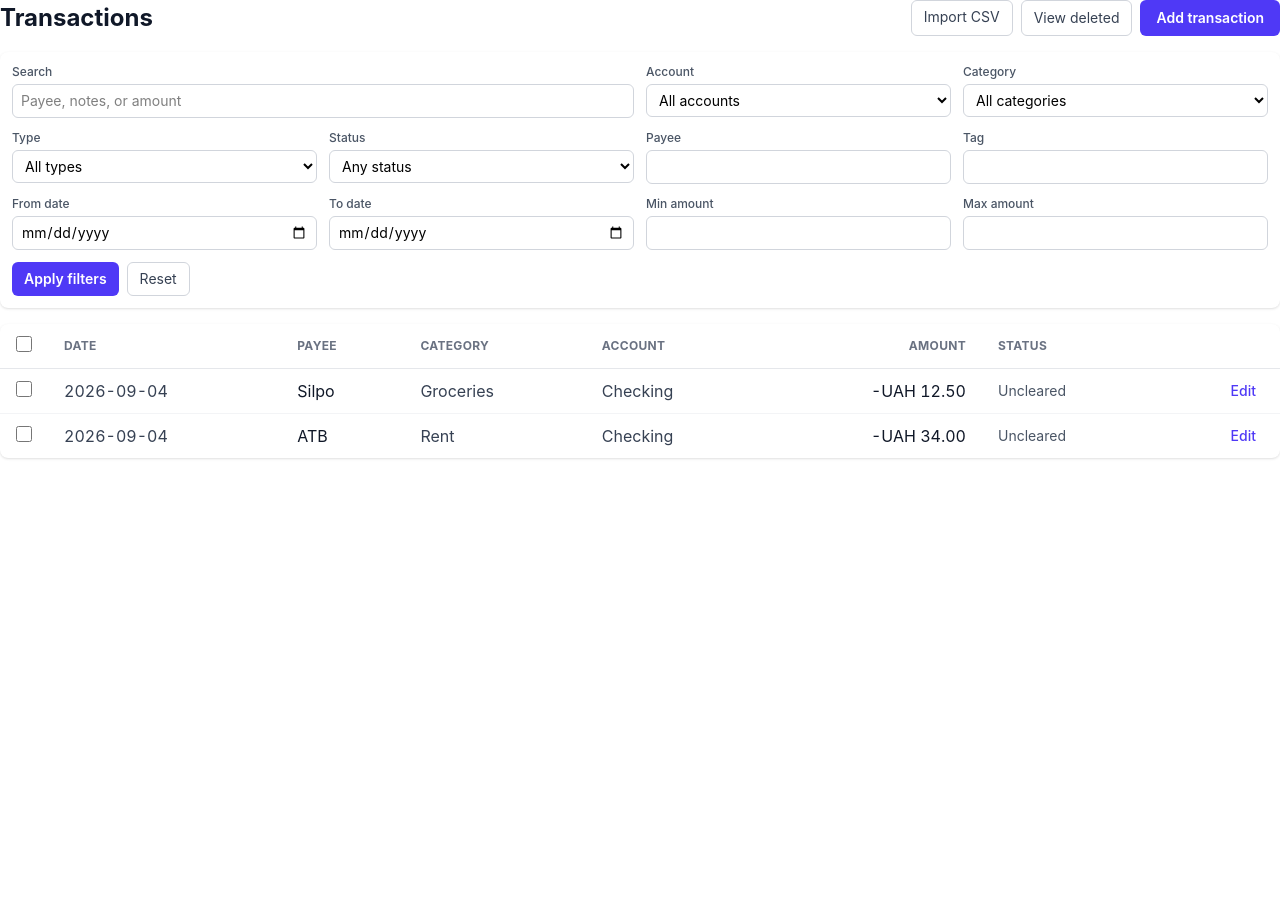
Test: TransactionsPage › quick-adds an expense with today as the default date
Click the button "Add transaction": (1210, 18) left=1140, top=0, right=1279, bottom=36
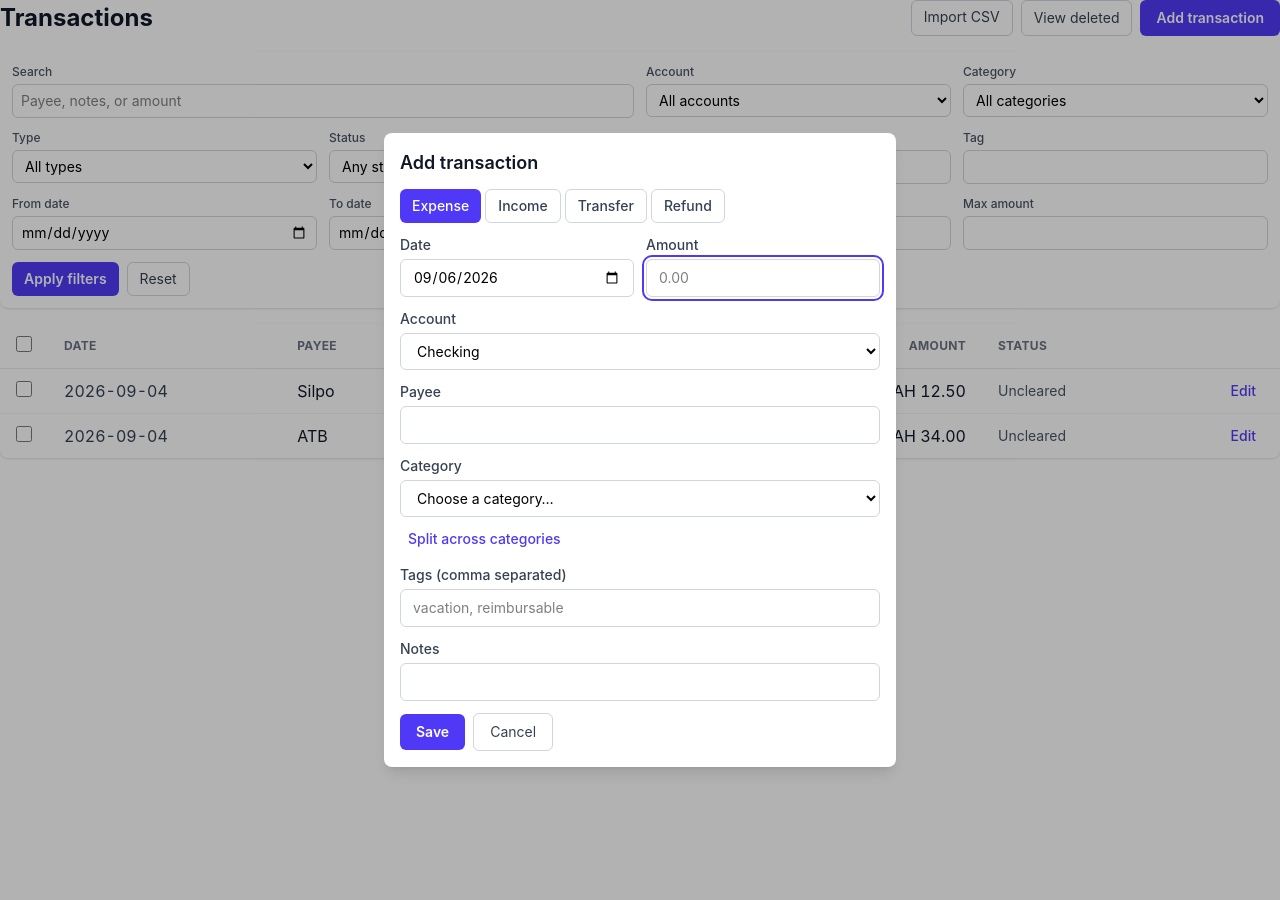
In the field labelled "Amount": (763, 278) left=646, top=259, right=880, bottom=297, type "12.50"
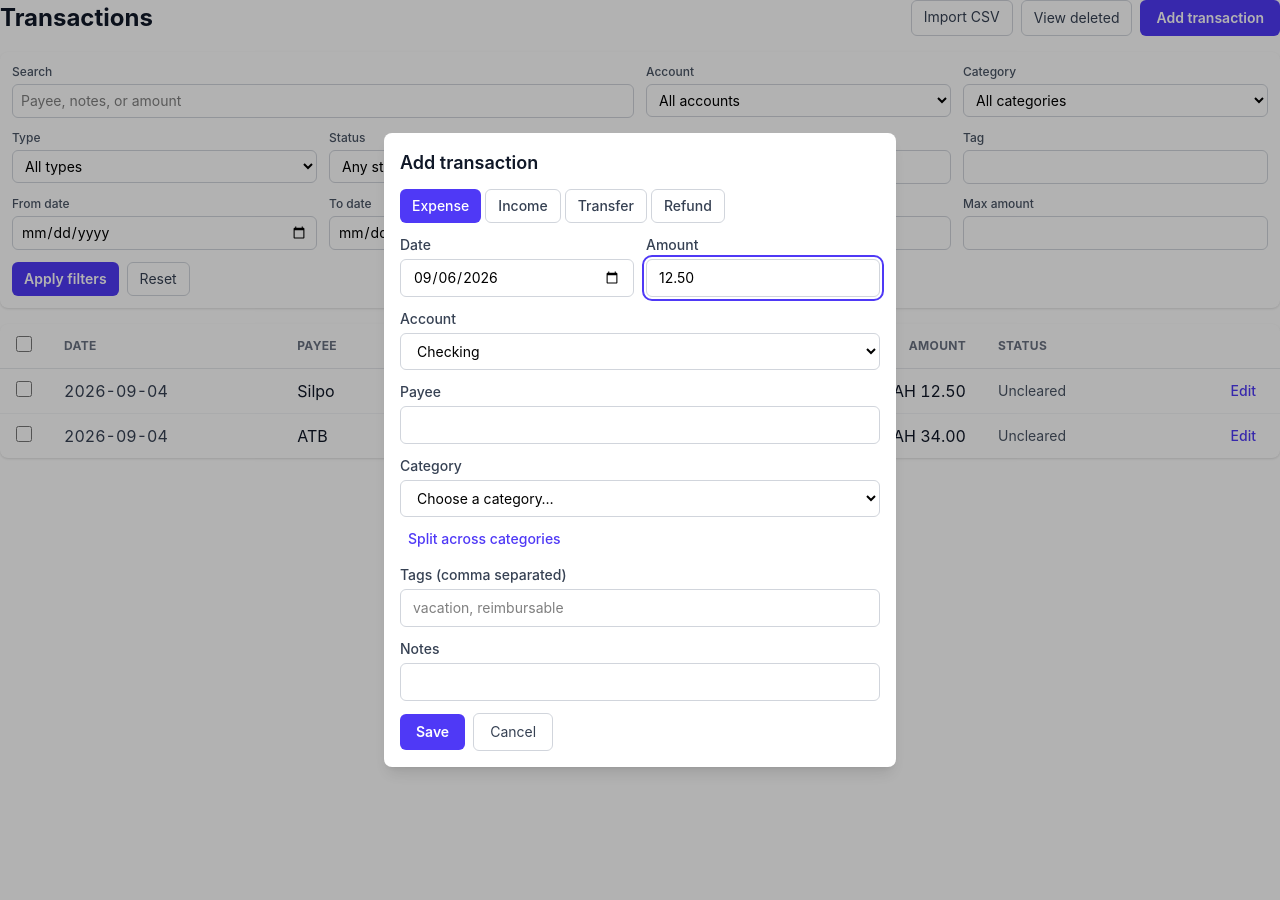
In the field labelled "Payee": (640, 425) left=400, top=406, right=880, bottom=444, type "Coffee shop"
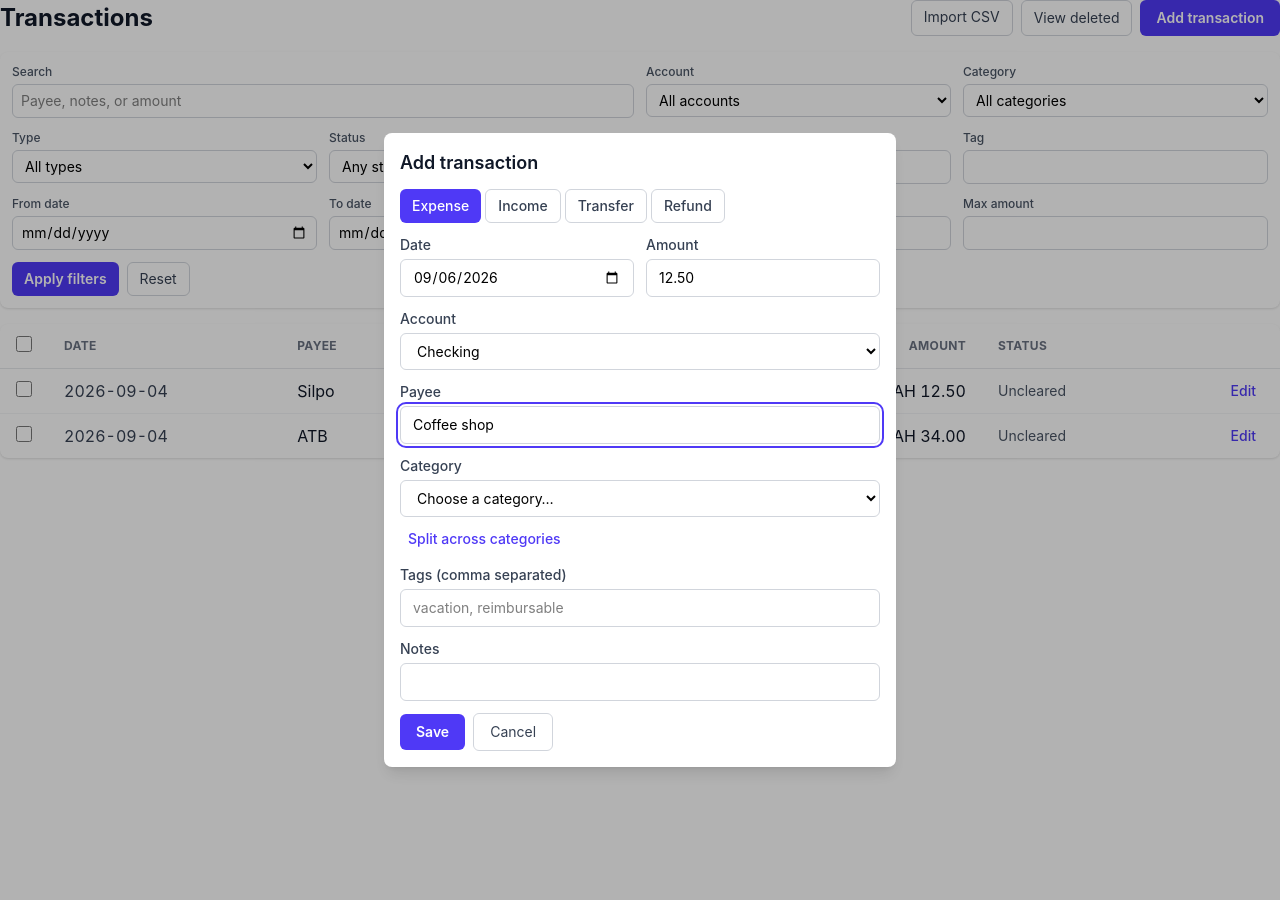
Select "Essentials · Groceries" in the dropdown labelled "Category": (640, 498) left=400, top=480, right=880, bottom=517
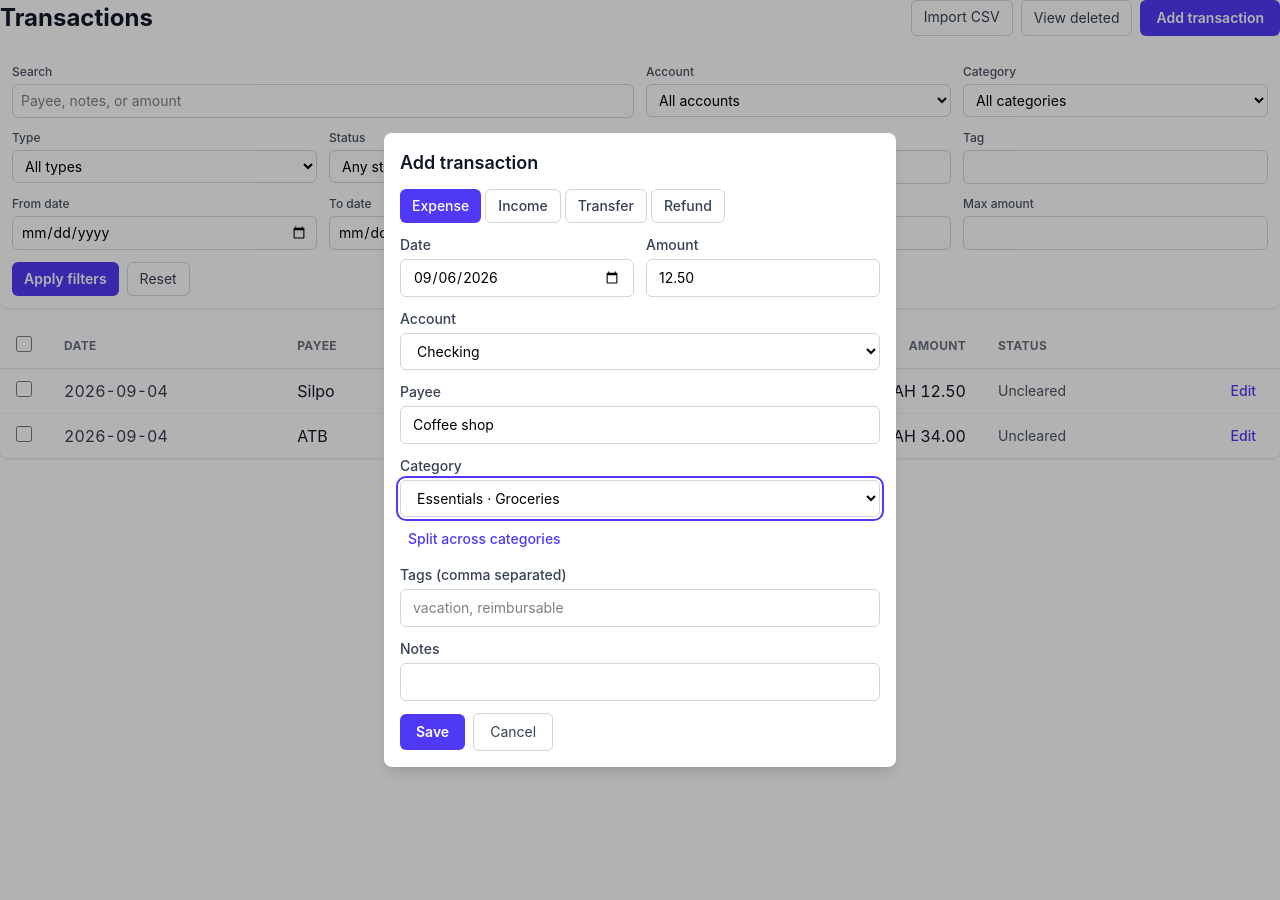
Click the button "Save": (433, 732) left=400, top=714, right=465, bottom=750
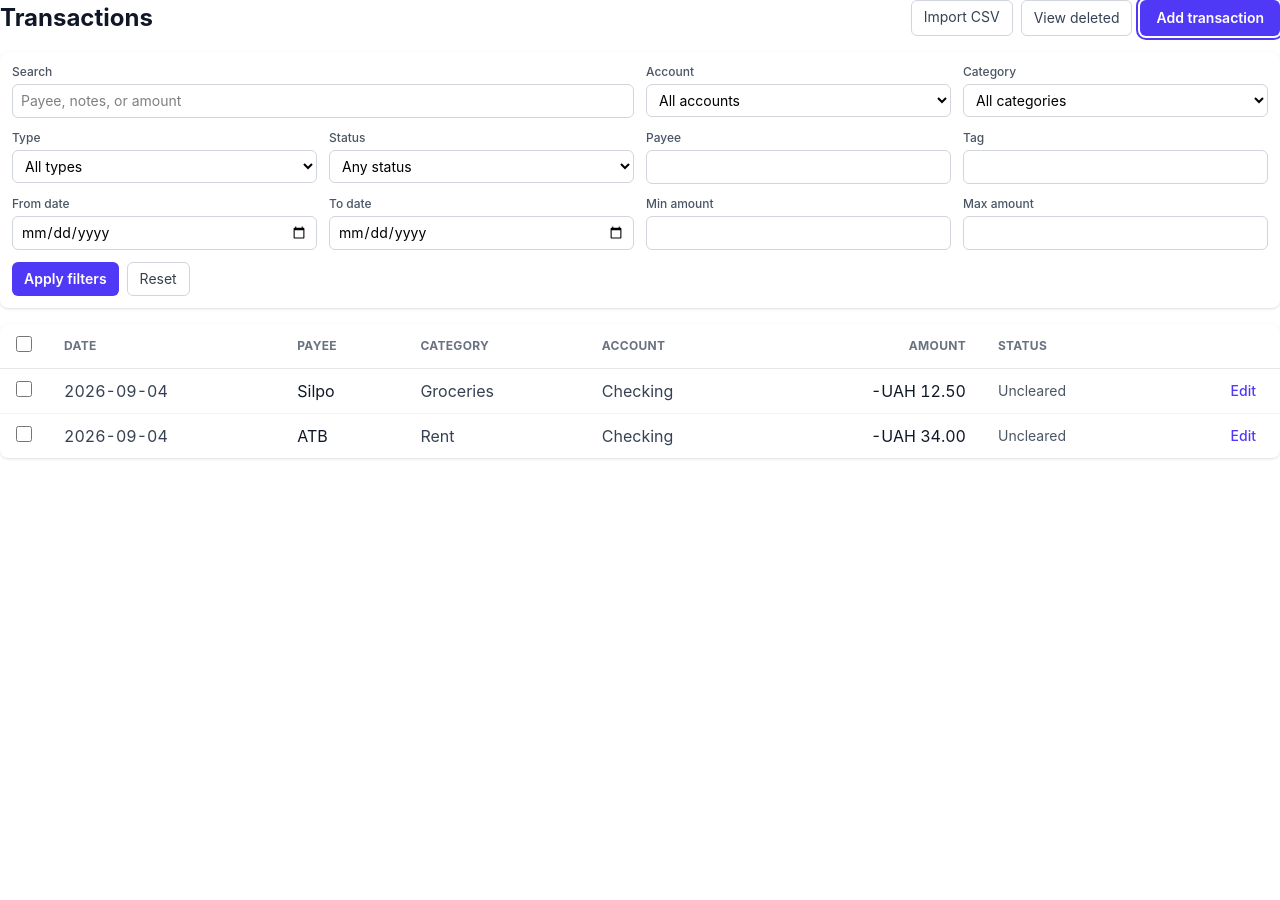
Now the dialog is gone
